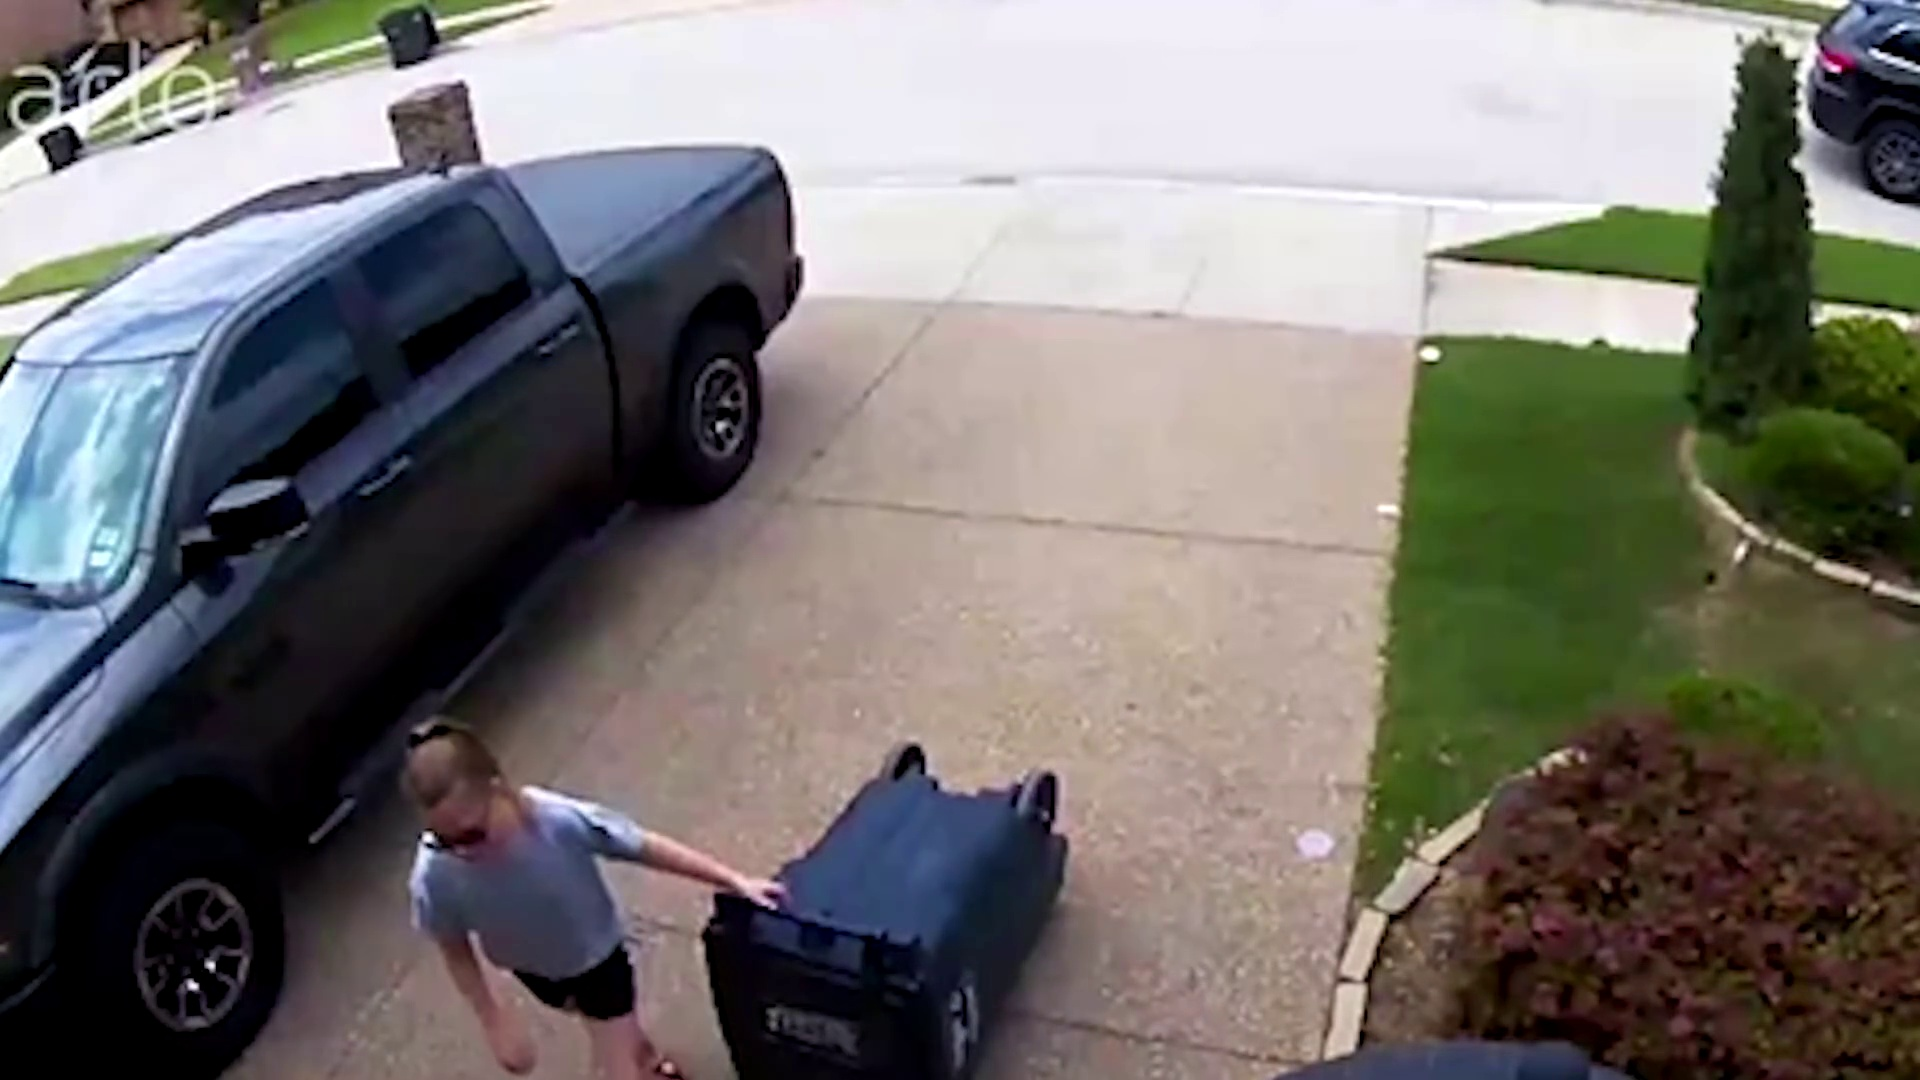face: (419, 796, 498, 863)
